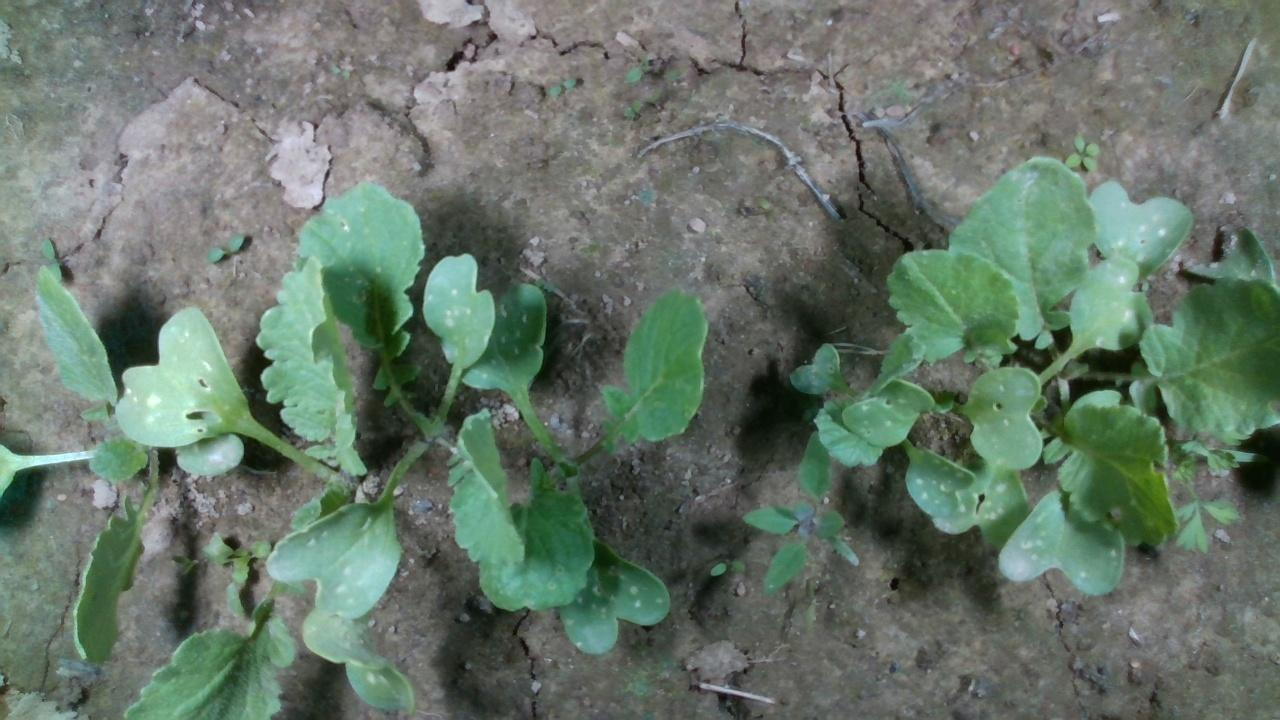weed: (203, 232, 244, 264), (708, 557, 746, 576), (546, 75, 575, 98)
